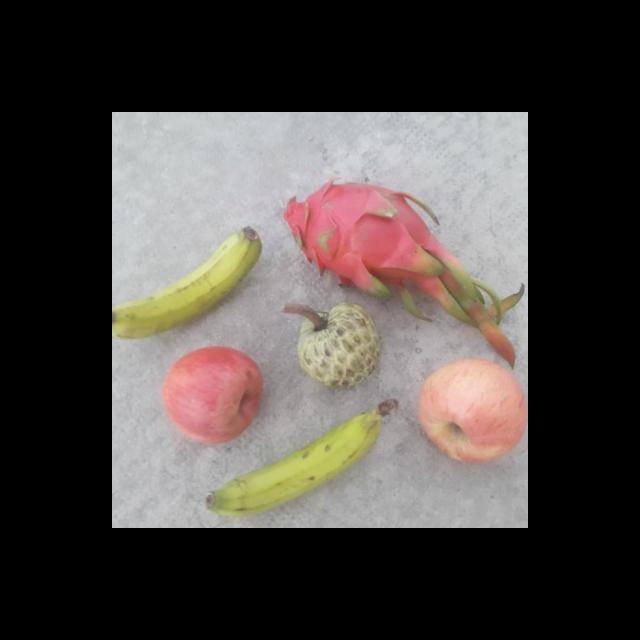Sakya fruit: (290, 302, 384, 389)
apple: (414, 358, 526, 464), (158, 342, 267, 448)
banana: (198, 397, 398, 522), (112, 225, 264, 341)
pitaya: (279, 178, 438, 306)
